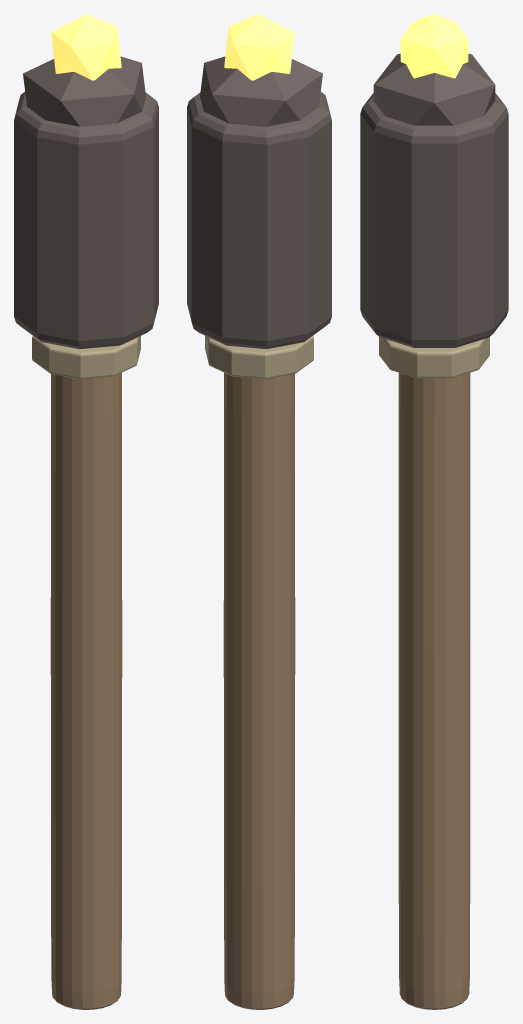
The model's file is 13-Herramientas_antorcha_mano.glb.
3 views of the same model, side by side, from view 1: azimuth 30°, elevation 25°; view 2: azimuth 150°, elevation 25°; view 3: azimuth 270°, elevation 25° (orthographic).
Visible parts, largest first — view 1: SM_Antorcha_Mango, SM_Antorcha_Tela, SM_Antorcha_Remate, SM_Antorcha_Brasa, SM_Antorcha_Cordel_2; view 2: SM_Antorcha_Mango, SM_Antorcha_Tela, SM_Antorcha_Remate, SM_Antorcha_Brasa, SM_Antorcha_Cordel_2; view 3: SM_Antorcha_Mango, SM_Antorcha_Tela, SM_Antorcha_Remate, SM_Antorcha_Brasa, SM_Antorcha_Cordel_2.
Part boxes in pixels (bbox=[...]): SM_Antorcha_Mango: bbox=[50, 372, 122, 1009]; SM_Antorcha_Tela: bbox=[14, 92, 158, 349]; SM_Antorcha_Remate: bbox=[23, 56, 145, 126]; SM_Antorcha_Brasa: bbox=[51, 14, 121, 80]; SM_Antorcha_Cordel_2: bbox=[32, 336, 140, 379]; SM_Antorcha_Mango: bbox=[223, 372, 295, 1009]; SM_Antorcha_Tela: bbox=[187, 92, 331, 349]; SM_Antorcha_Remate: bbox=[200, 56, 322, 126]; SM_Antorcha_Brasa: bbox=[224, 14, 294, 80]; SM_Antorcha_Cordel_2: bbox=[205, 336, 313, 379]; SM_Antorcha_Mango: bbox=[398, 372, 470, 1009]; SM_Antorcha_Tela: bbox=[360, 93, 508, 347]; SM_Antorcha_Remate: bbox=[373, 53, 495, 125]; SM_Antorcha_Brasa: bbox=[400, 14, 468, 78]; SM_Antorcha_Cordel_2: bbox=[379, 337, 489, 378].
Bounding box in the file's own units: 0.1065 × 0.82 × 0.112.
